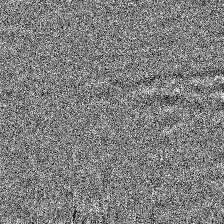cavities: (34, 53, 188, 182)
